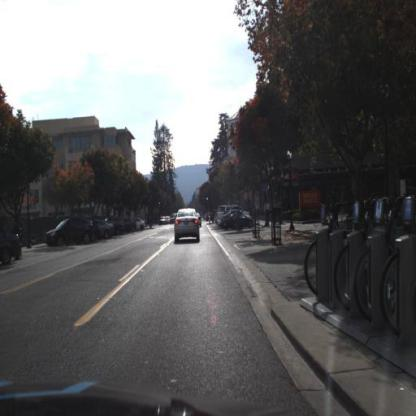car: (42, 218, 91, 250), (173, 203, 203, 243), (1, 224, 22, 271), (222, 211, 253, 229), (92, 217, 115, 241)
pedestrian: (264, 199, 271, 225), (272, 200, 278, 224), (279, 199, 284, 222)
